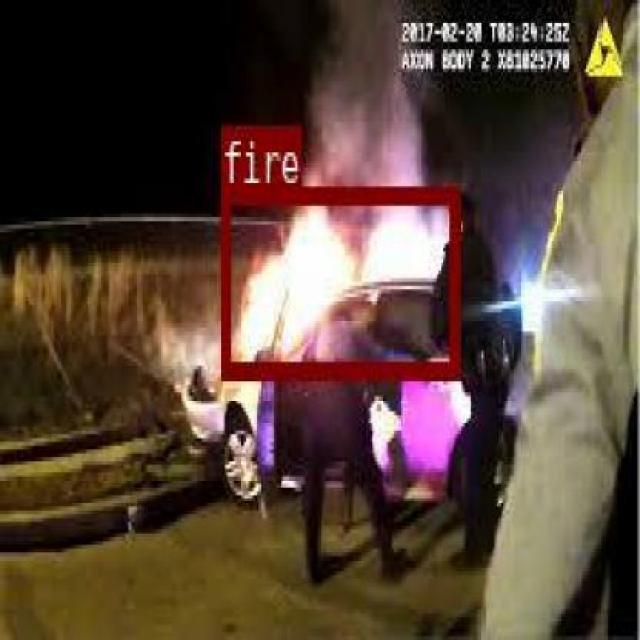Fire: (219, 182, 458, 376)
